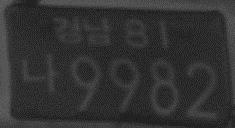1: (157, 17, 171, 54)
2: (186, 60, 221, 120)
8: (148, 57, 180, 118), (123, 17, 150, 50)
9: (69, 54, 103, 114), (108, 57, 143, 114)
경남_O: (51, 13, 112, 50)
나: (18, 51, 61, 98)
